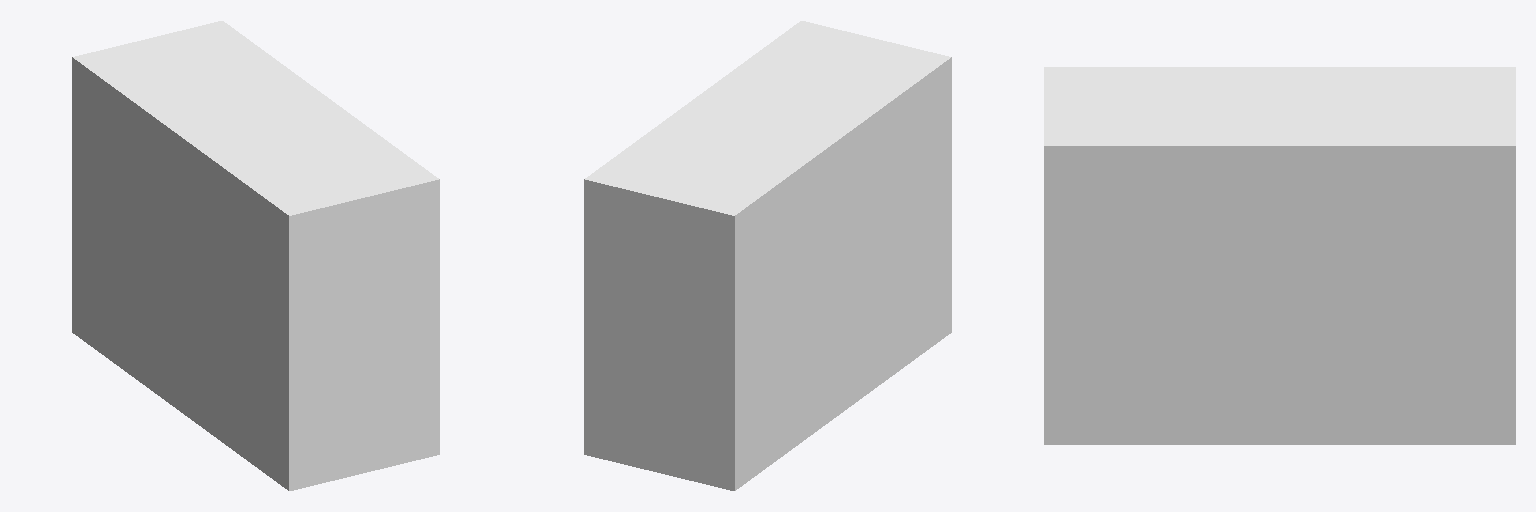
robot.urdf — obstacle3.obj:
<robot name="obstacle3.obj">
	<link name="_name">
		<visual>
			<origin xyz="0.0 0.0 -0.07" rpy="0 0 0" />
			<geometry>
				<mesh filename="obstacle3.obj" scale="0.001 0.001 0.001" />
			</geometry>
			<material name="texture">
				<color rgba="1.0 1.0 1.0 1.0" />
			</material>
		</visual>
		<collision>
			<geometry>
				<mesh filename="obstacle3_vhacd.obj" scale="0.001 0.001 0.001" />
			</geometry>
		<origin xyz="0.0 0.0 -0.07" rpy="0 0 0" /></collision>
		<inertial>
			<mass value="0.3" />
			<inertia ixx="0.6" ixy="0.0" ixz="0.0" iyy="0.5" iyz="-0.0" izz="0.08" />
		</inertial>
	</link>
</robot>

--- Render facts (derived) ---
3 views of the same robot in one strip: view 1: azimuth 30°, elevation 25°; view 2: azimuth 150°, elevation 25°; view 3: azimuth 270°, elevation 25° (orthographic).
Robot: obstacle3.obj — 1 links, 0 joints (none); root link _name; default pose: every joint at zero.
Visible links, largest first — view 1: _name; view 2: _name; view 3: _name.
Link boxes in pixels (x1,y1,x2,y2): _name: (72, 21, 439, 490); _name: (584, 21, 951, 490); _name: (1044, 67, 1515, 444).
Bounding box of the posed robot: 0.08 × 0.2 × 0.14 m (x, y, z).
Meshes: 1 distinct files referenced, 1 mesh visuals loaded (1 OBJ).